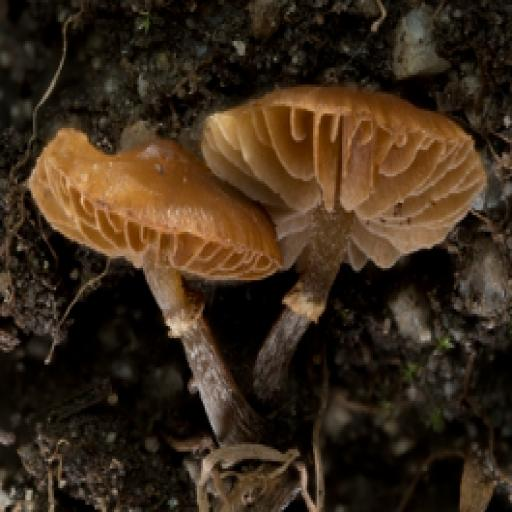Funeral Bell: (25, 74, 498, 442)
